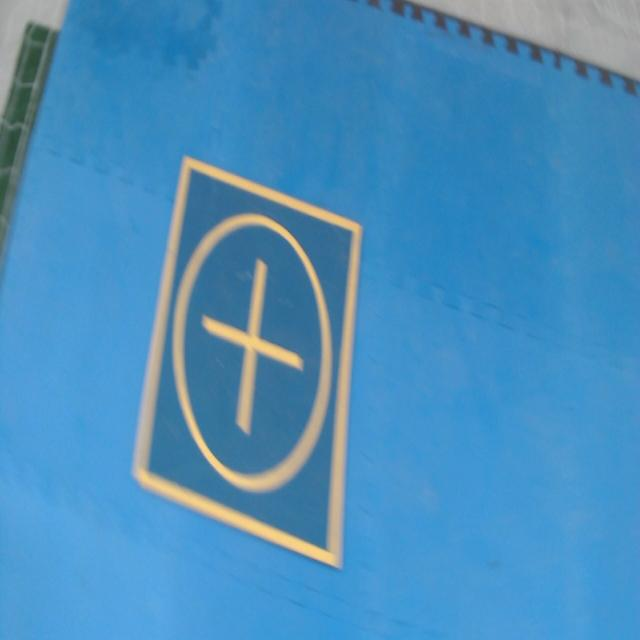base_pouso: (129, 155, 366, 568)
